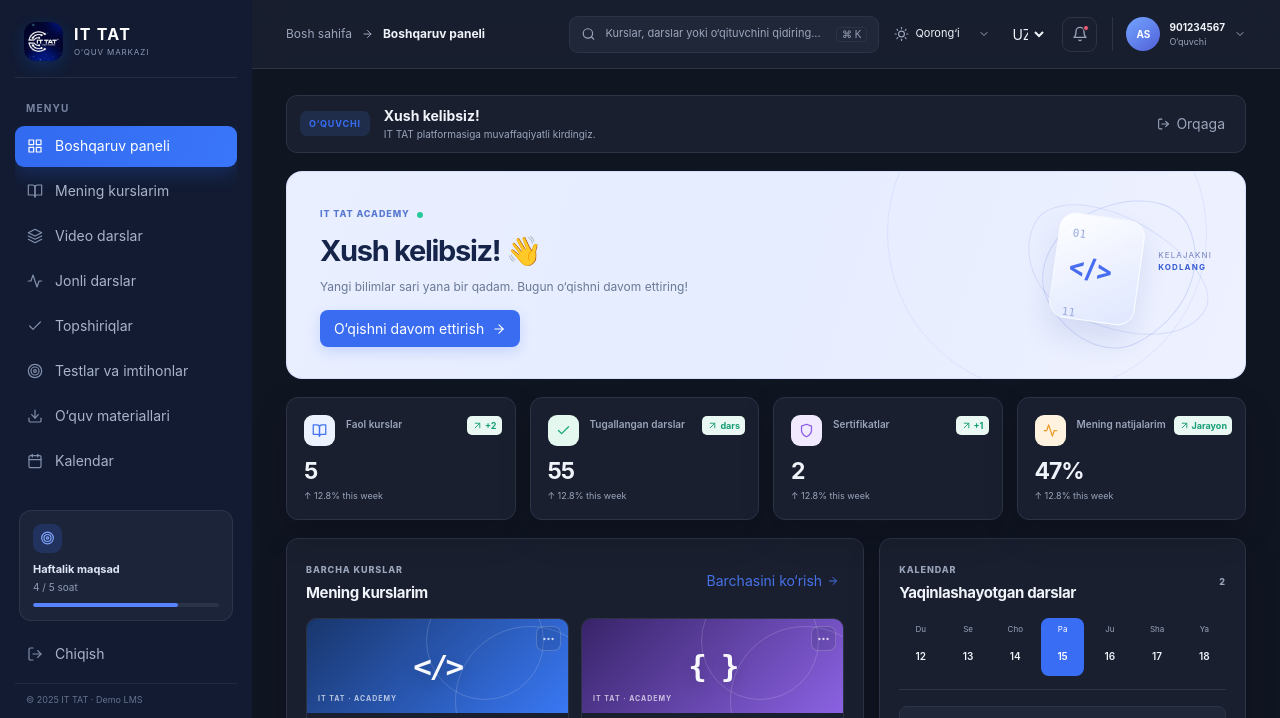
Test: admin course assignment updates the student list and survives refresh
This screenshot has width=1280, height=718.
Earlier steps of the test are not shown.
Click the button "Mening kurslarim". click: (126, 191)
box: [15,170,237,212]
(page scrolled)
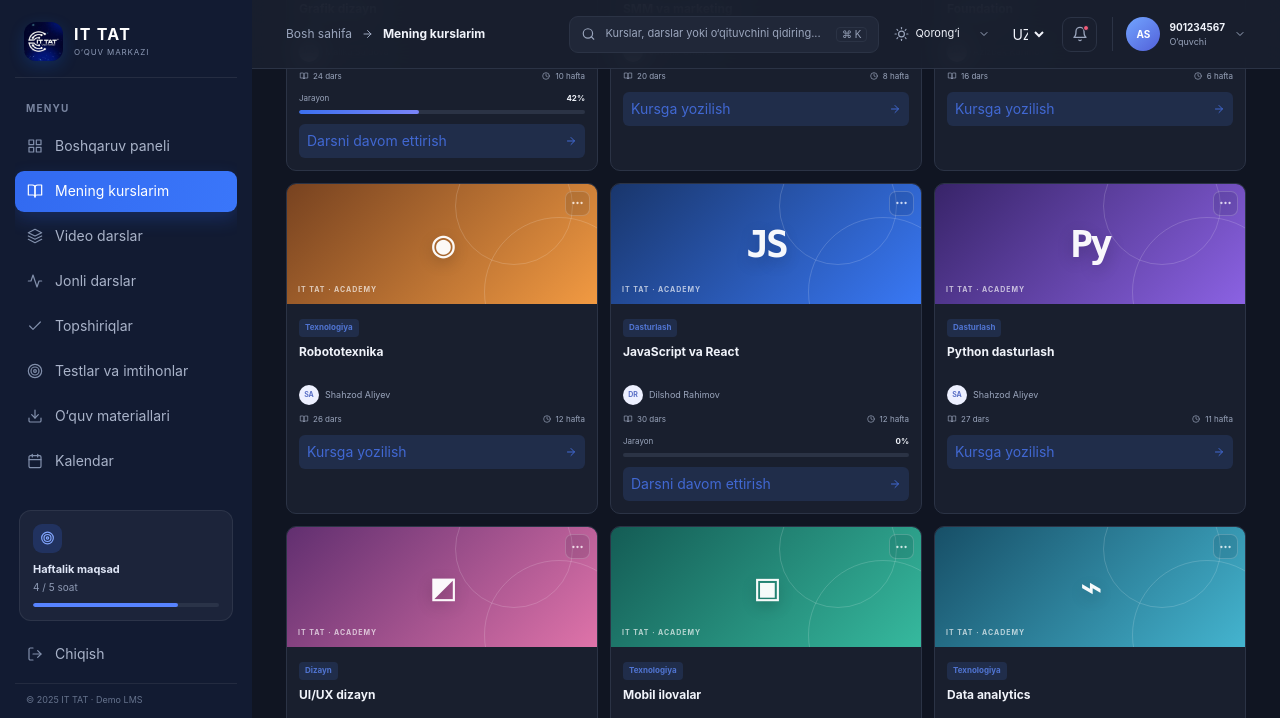
Result: the heading "JavaScript va React" is shown at [623,344,739,359]
